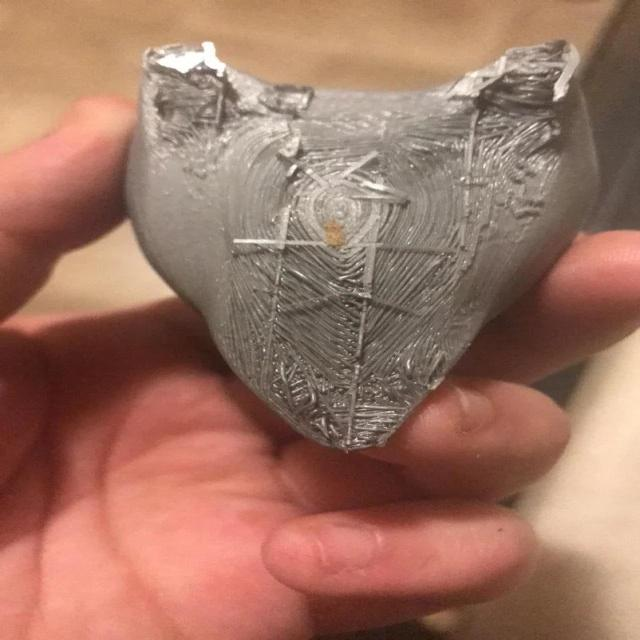spaghetti: (246, 141, 444, 455), (118, 34, 312, 178), (461, 23, 587, 240)
